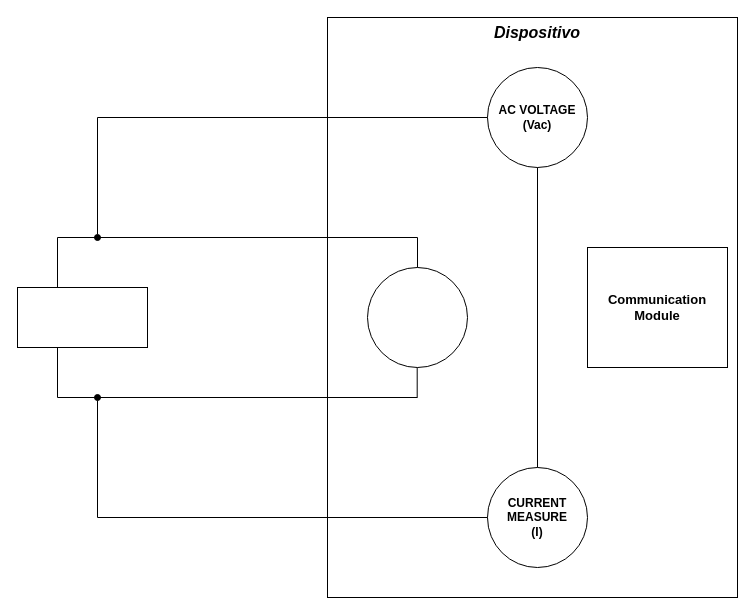
The diagram is 755 pixels wide and 615 high, and some of its shapes have lost their labels. Here are the shapes that lost their labels. From the top down, the box of each, then its label:
(16, 286, 148, 348): Body Z Uknown
(366, 266, 468, 368): VOLTAGE METER (Vm)
